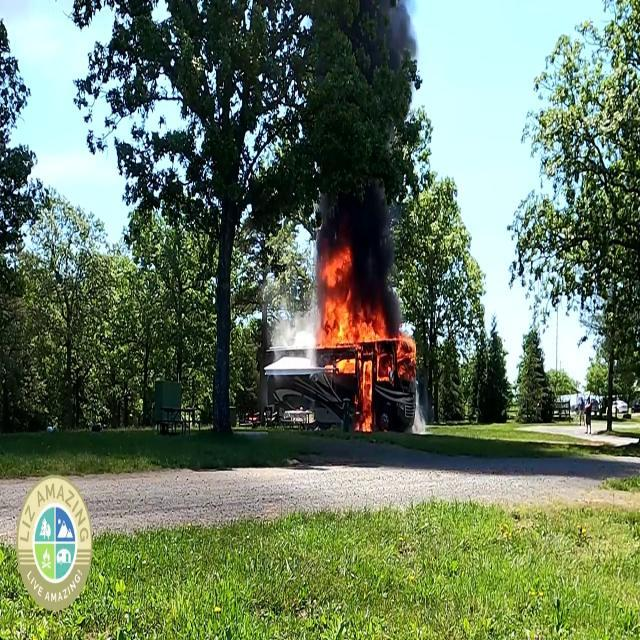Fire: (313, 251, 397, 429)
Smoke: (301, 1, 413, 303)
